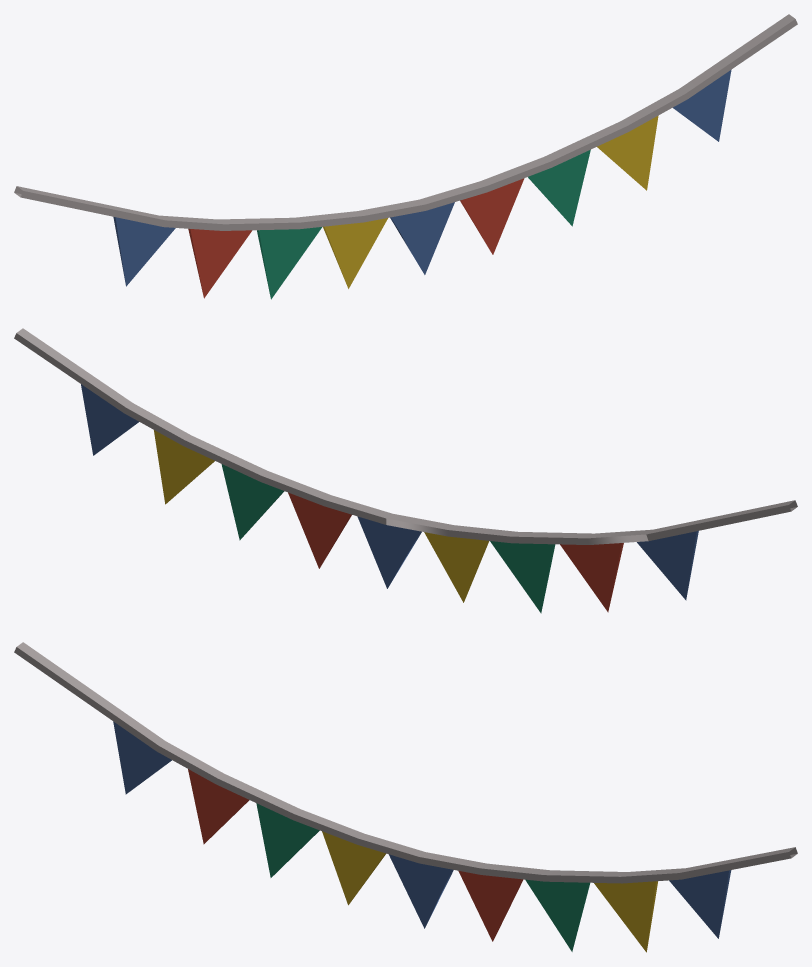
File: flags_03.fbx
The picture shows the model from 3 angles, top to bottom: view 1: azimuth 30°, elevation 25°; view 2: azimuth 150°, elevation 25°; view 3: azimuth 330°, elevation 25°; orthographic projection.
Parts seen in each view (by area): view 1: flags_03; view 2: flags_03; view 3: flags_03.
Part boxes in pixels (x1=…): flags_03: x1=14, y1=14, x2=797, y2=299; flags_03: x1=14, y1=328, x2=797, y2=613; flags_03: x1=14, y1=642, x2=797, y2=952.
Size of the model in its own units: 579 by 132 by 8.51.
